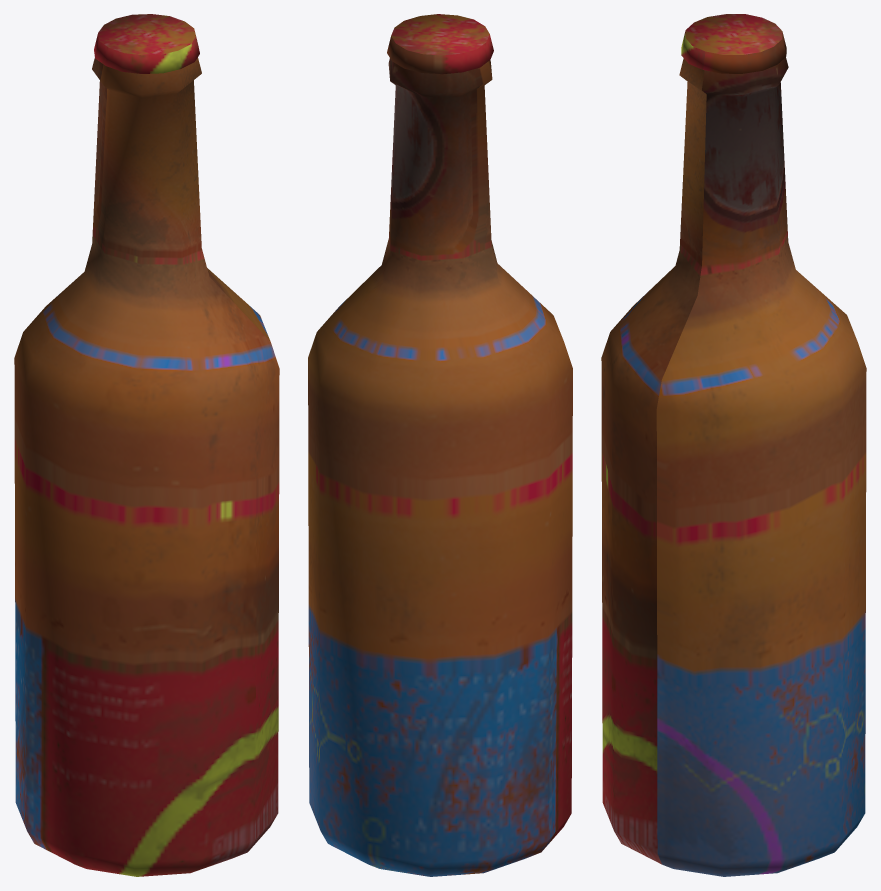
File: SM_Bottle_09.fbx
The picture shows the model from 3 angles, left to right: view 1: azimuth 30°, elevation 25°; view 2: azimuth 150°, elevation 25°; view 3: azimuth 270°, elevation 25°; orthographic projection.
Parts seen in each view (by area): view 1: SM_Bottle_09_LOD0; view 2: SM_Bottle_09_LOD0; view 3: SM_Bottle_09_LOD0.
Boxes of the visible parts, left/top/right/bottom form: SM_Bottle_09_LOD0: left=14, top=14, right=279, bottom=876; SM_Bottle_09_LOD0: left=308, top=14, right=572, bottom=876; SM_Bottle_09_LOD0: left=601, top=14, right=866, bottom=876.
Size of the model in its own units: 7.63 by 7.63 by 25.36.
